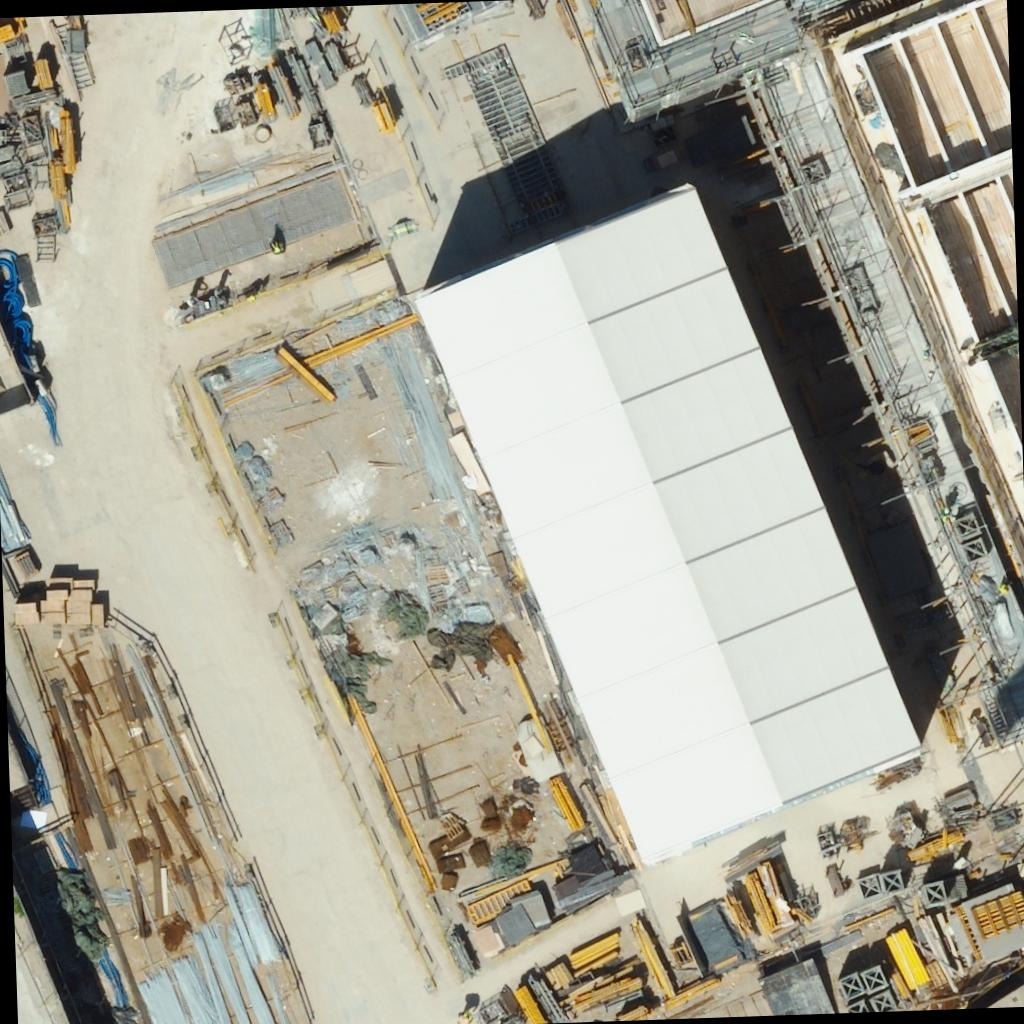pracownik: (180, 272, 208, 308), (211, 266, 235, 300)
